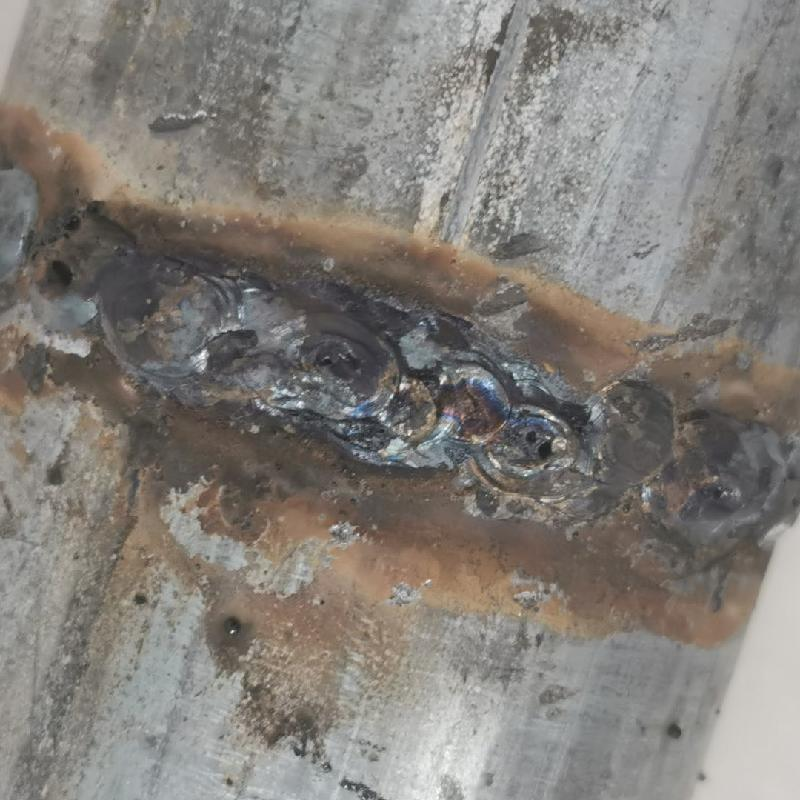Surface_pores: (26, 218, 118, 307), (513, 420, 563, 471)
crater: (240, 305, 799, 543)
